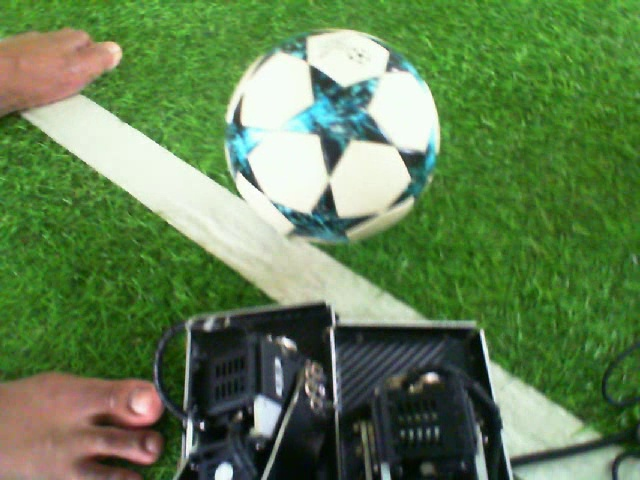ball: (222, 25, 443, 247)
